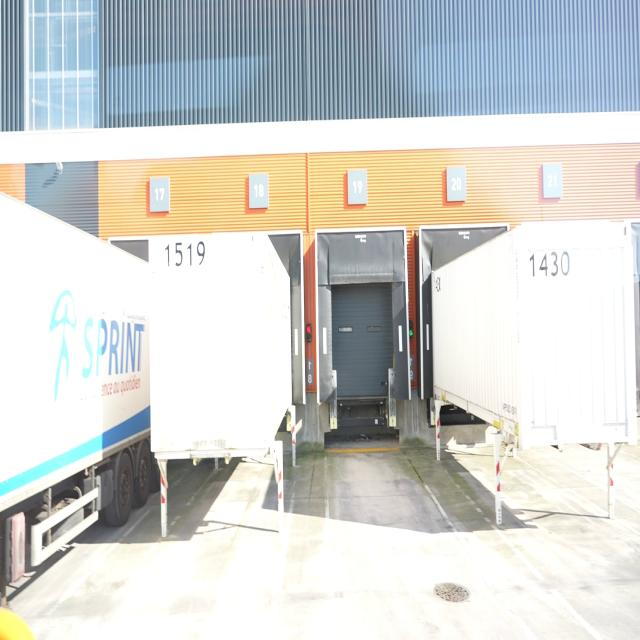Code: (522, 240, 576, 294), (164, 236, 208, 272)
